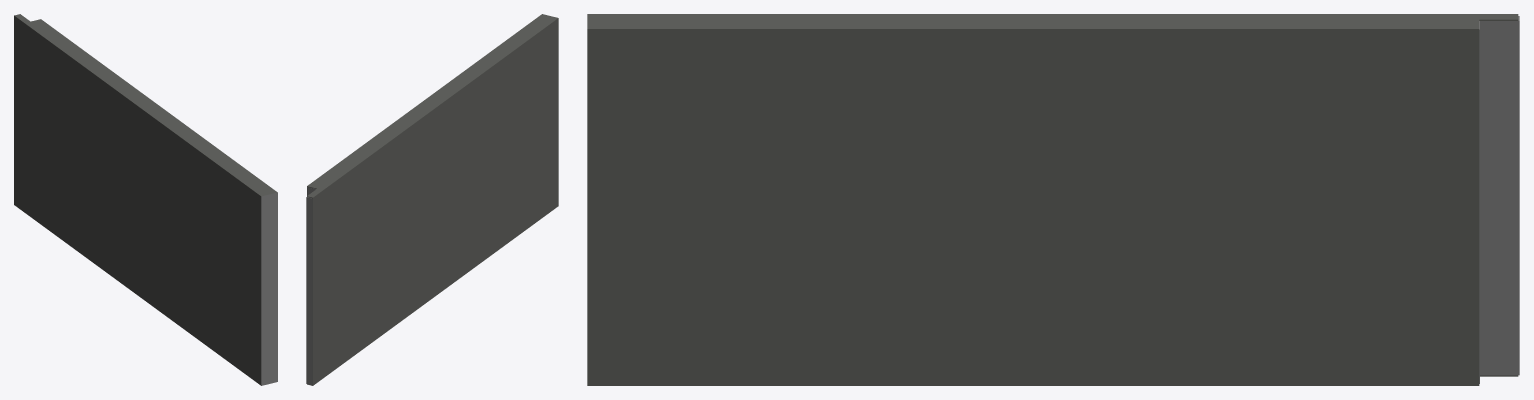
Rendered from mv-boxcover-400-p.glb.
3 renders of one model, left to right at view 1: azimuth 30°, elevation 25°; view 2: azimuth 150°, elevation 25°; view 3: azimuth 270°, elevation 25°, orthographic. The views are drawn at different scales.
Parts seen in each view (by area): view 1: geometry_0; view 2: geometry_0; view 3: geometry_0.
Part boxes in pixels (x1,y1,x2,y2): geometry_0: [14, 14, 277, 385]; geometry_0: [306, 14, 558, 385]; geometry_0: [587, 14, 1519, 385].
Bounding box in the file's own units: 0.015 × 0.165 × 0.3907.
Materials: 1 (1 with a texture image).
